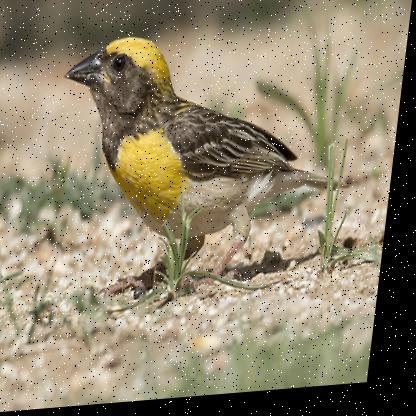Burung: (45, 23, 371, 311)
